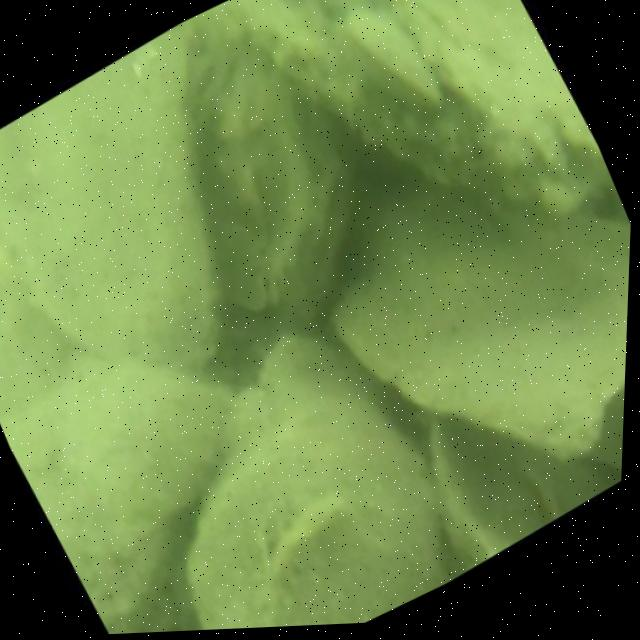Oyster-Closed: (213, 0, 616, 210), (197, 52, 338, 310)
Oyster-Indeterminate: (0, 20, 221, 381), (337, 198, 630, 466), (182, 341, 444, 630), (0, 354, 245, 634), (200, 186, 352, 392), (587, 398, 624, 468)
Oyster-Open: (433, 421, 621, 565)
